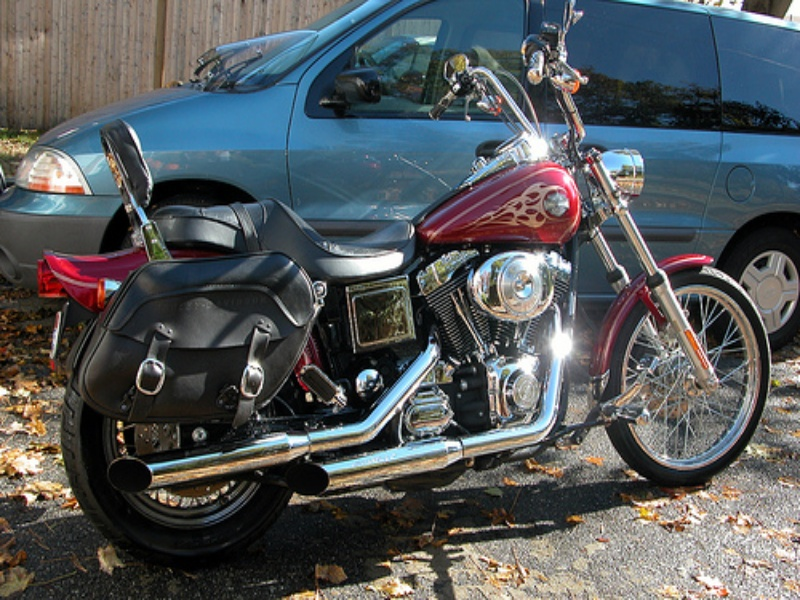car: (1, 1, 800, 353)
